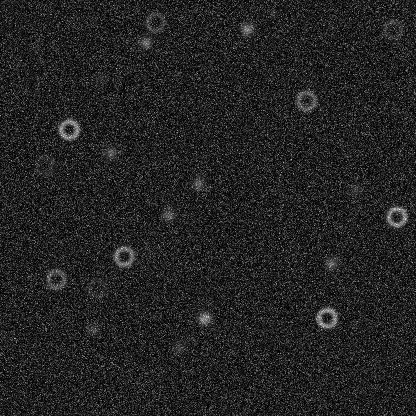Ring: (84, 275, 108, 299), (314, 305, 338, 329), (56, 117, 80, 141), (32, 153, 56, 177), (294, 88, 318, 112), (384, 204, 408, 228), (142, 10, 166, 34), (111, 244, 135, 268), (44, 267, 68, 291), (380, 17, 404, 41)
Spot: (190, 175, 206, 191), (137, 34, 153, 50), (102, 144, 118, 160), (160, 206, 176, 222), (196, 310, 212, 326), (93, 70, 109, 86), (323, 255, 339, 271), (85, 321, 101, 337), (170, 339, 186, 355), (347, 181, 363, 197), (238, 21, 254, 37)
